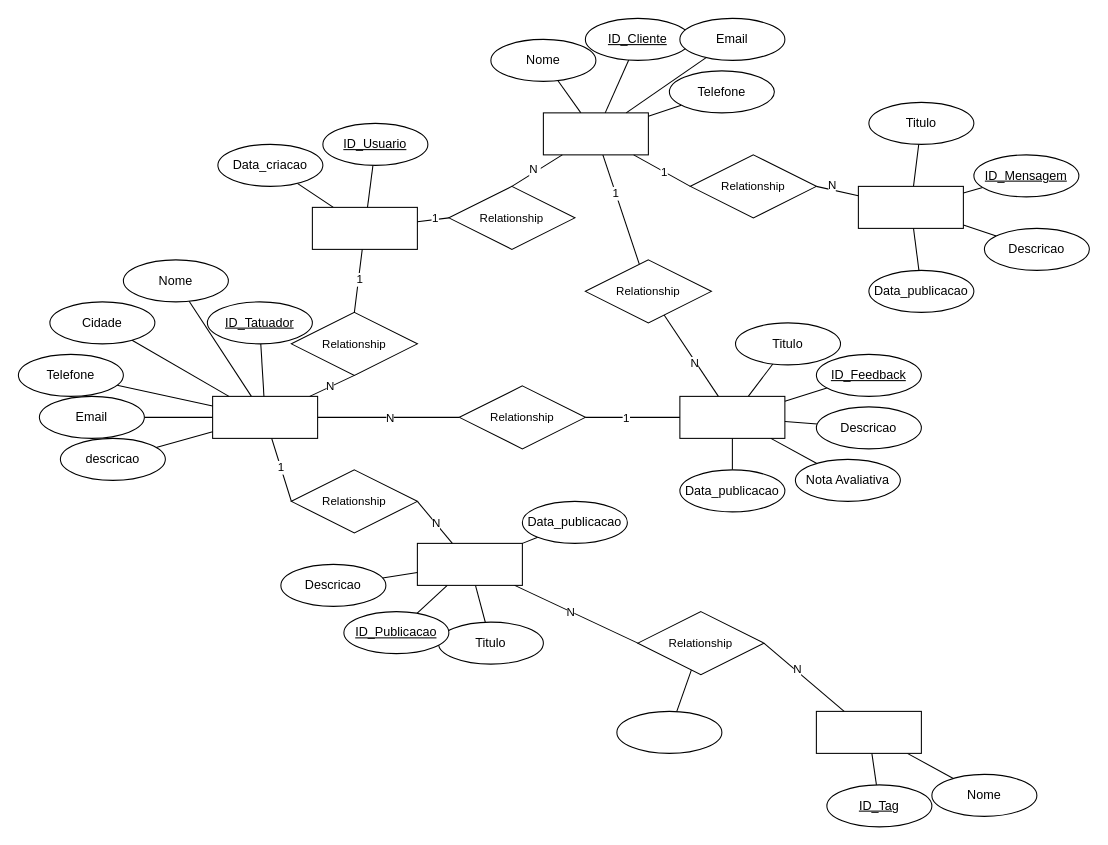
Some shapes in this 1108 by 845 pixel diagram are drawn without their labels. Each missing label, with the centre of its shape:
"Cliente" belongs at [595,133].
"Feedback" belongs at [732,416].
"Mensagem" belongs at [910,206].
"Publicacao" belongs at [469,563].
"Q_Publicacao" belongs at [669,731].
"Tag" belongs at [868,731].
"Tatuador" belongs at [265,416].
"Usuario" belongs at [364,227].
